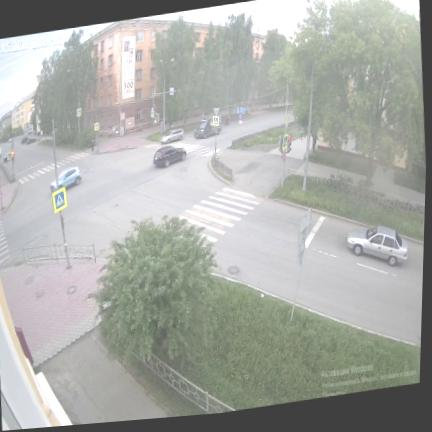car: (347, 226, 408, 266), (50, 167, 81, 192), (153, 146, 186, 167), (160, 129, 184, 143), (27, 138, 36, 144)
human: (91, 139, 95, 151)
lightPole: (303, 59, 314, 190), (162, 58, 174, 133), (77, 108, 81, 133)
pedestianCross: (180, 188, 260, 241), (18, 153, 87, 184), (170, 142, 214, 156), (0, 221, 9, 262)
pedestrianSign: (53, 147, 71, 269), (213, 108, 219, 158), (94, 123, 99, 149)
sign: (291, 208, 312, 322), (237, 107, 245, 124)
trafficLight: (279, 83, 291, 186), (151, 96, 159, 135), (9, 141, 14, 178), (0, 181, 4, 209)
truck: (194, 117, 215, 138)
